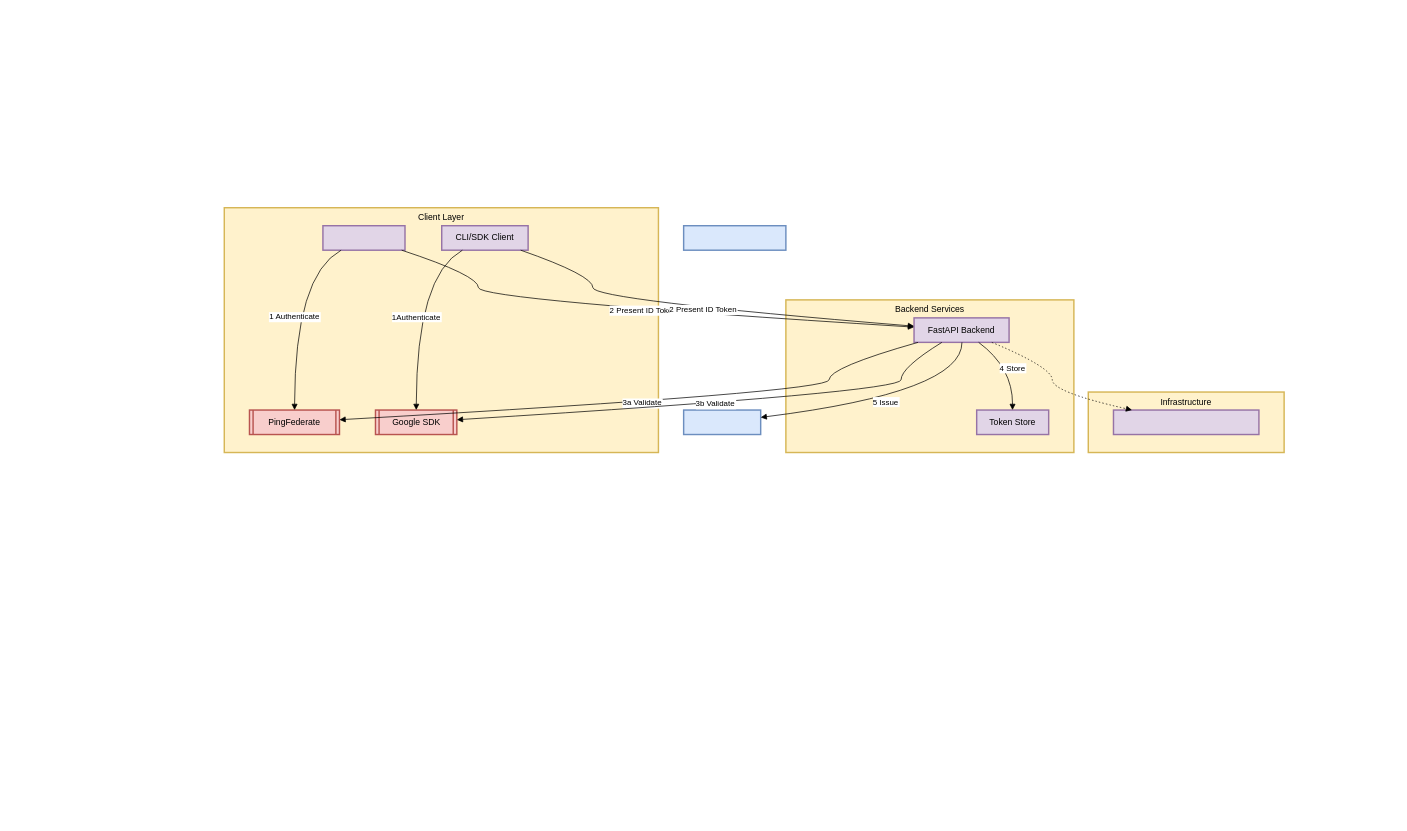
Some shapes in this 1407 by 831 pixel diagram are drawn without their labels. Each missing label, with the centre of its shape:
"Google Kubernetes Engine" belongs at pixel 1185 422.
"Identity Providers" belongs at pixel 734 238.
"Secret Token" belongs at pixel 722 422.
"Web UI Client" belongs at pixel 363 238.
